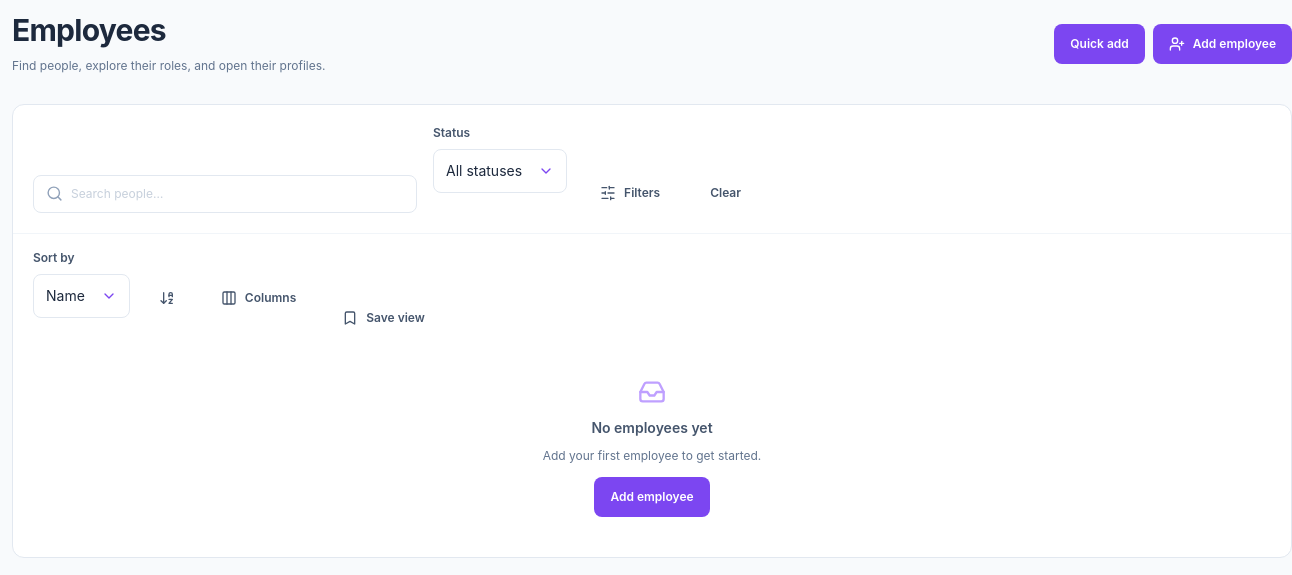
it: Employee directory › shows an empty state with a way to clear filters
Type "zzz" into the field with placeholder "Search people…".
click(238, 194); type("zzz")  # box [71,176,404,212]
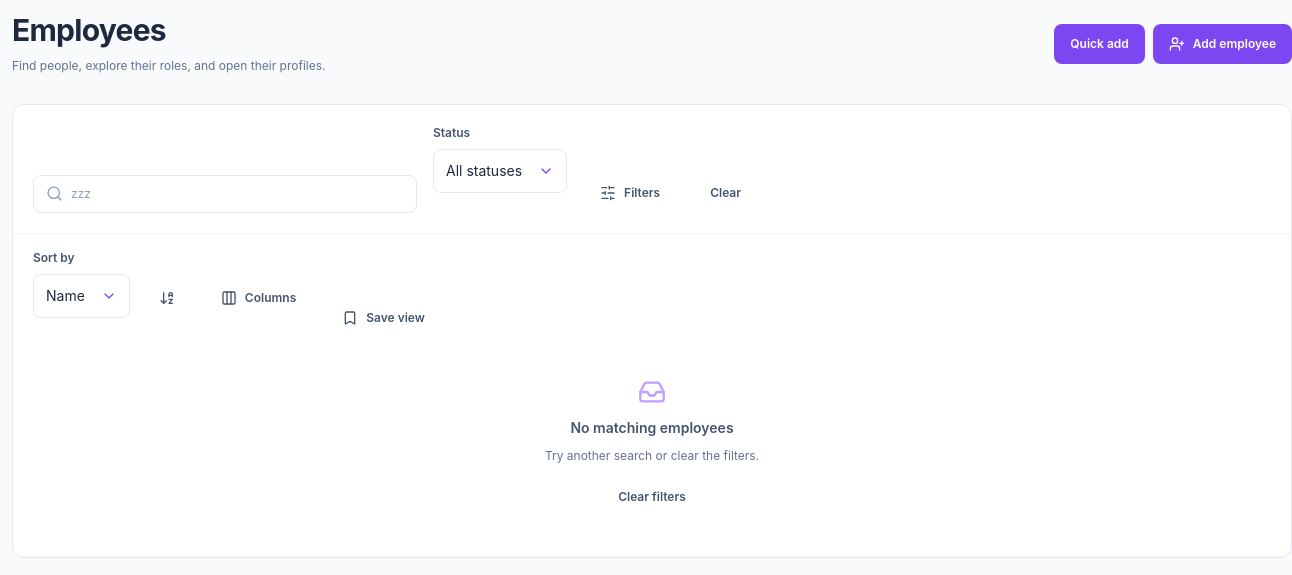
expect the heading "No matching employees" is shown: met, box [570,418,734,436]
expect the button "Clear filters" is shown: met, box [601,477,703,517]
